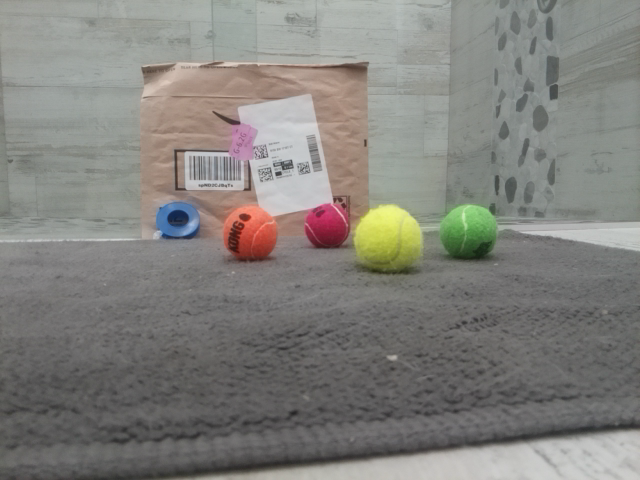green-ball: (440, 203, 498, 260)
orange-ball: (221, 203, 278, 262)
red-ball: (304, 202, 352, 249)
yellow-ball: (353, 202, 423, 275)
